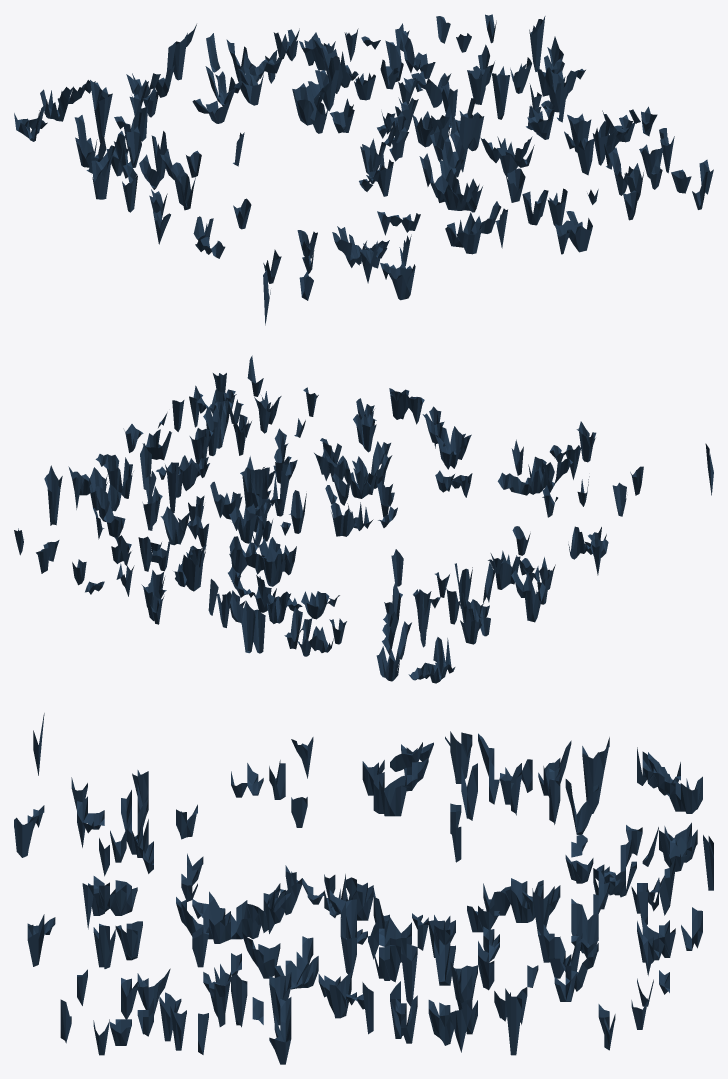
Rendered from landscape_INTERESSENCE_v3_rivers.obj.
3 renders of one model, top to bottom at view 1: azimuth 30°, elevation 25°; view 2: azimuth 150°, elevation 25°; view 3: azimuth 270°, elevation 25°, orthographic. The views are drawn at different scales.
Parts seen in each view (by area): view 1: rivers_INTERESSENCE; view 2: rivers_INTERESSENCE; view 3: rivers_INTERESSENCE.
Part boxes in pixels (x1,y1,x2,y2): rivers_INTERESSENCE: (14,14,713,325); rivers_INTERESSENCE: (14,355,713,683); rivers_INTERESSENCE: (14,713,713,1064).
Size of the model in its own units: 250 by 30.37 by 255.
